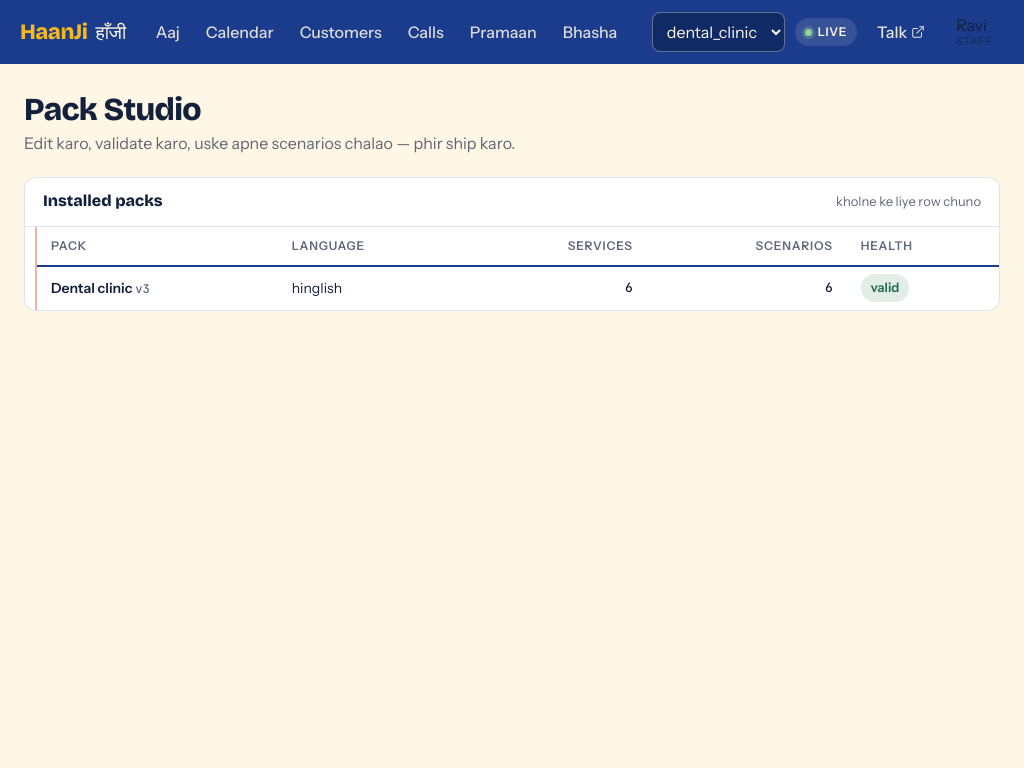
role gating › hides the pack save from staff in the studio
Click the button with aria-label "Dental clinic kholo".
click(92, 288)  # box [37,266,999,310]
(page scrolled)
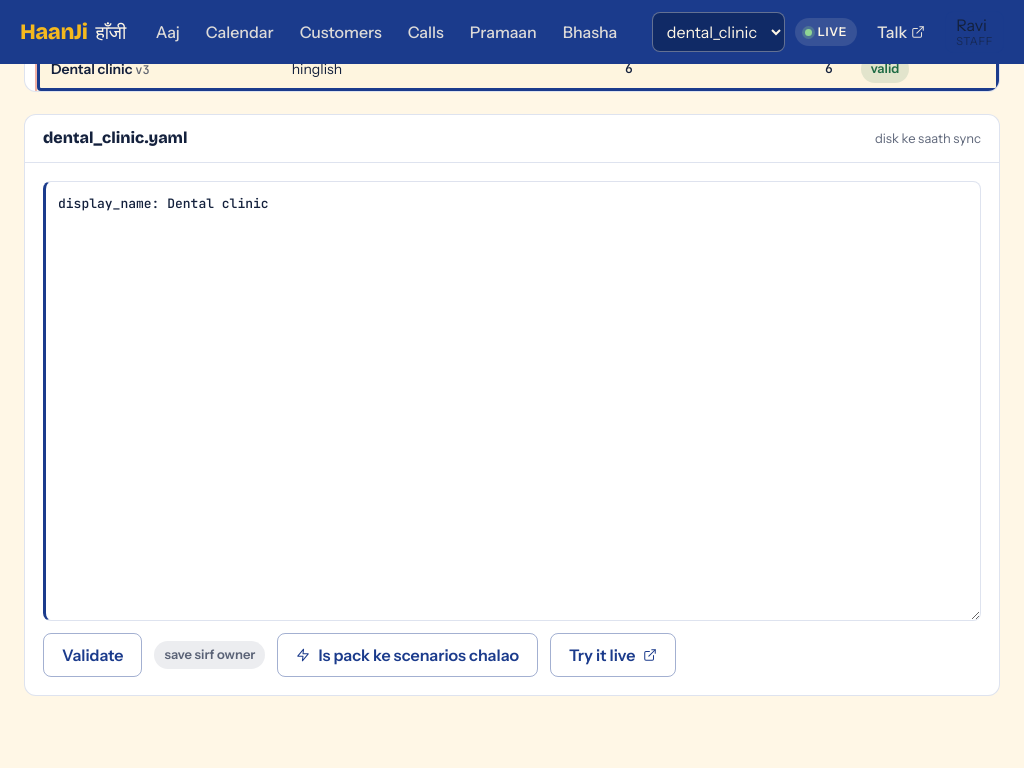
Now the text box named "Pack YAML" is shown, box [43,181,981,621]
Now the text "save sirf owner" is shown, box [154,641,265,669]
Now the button "Validate" is shown, box [43,633,142,677]
